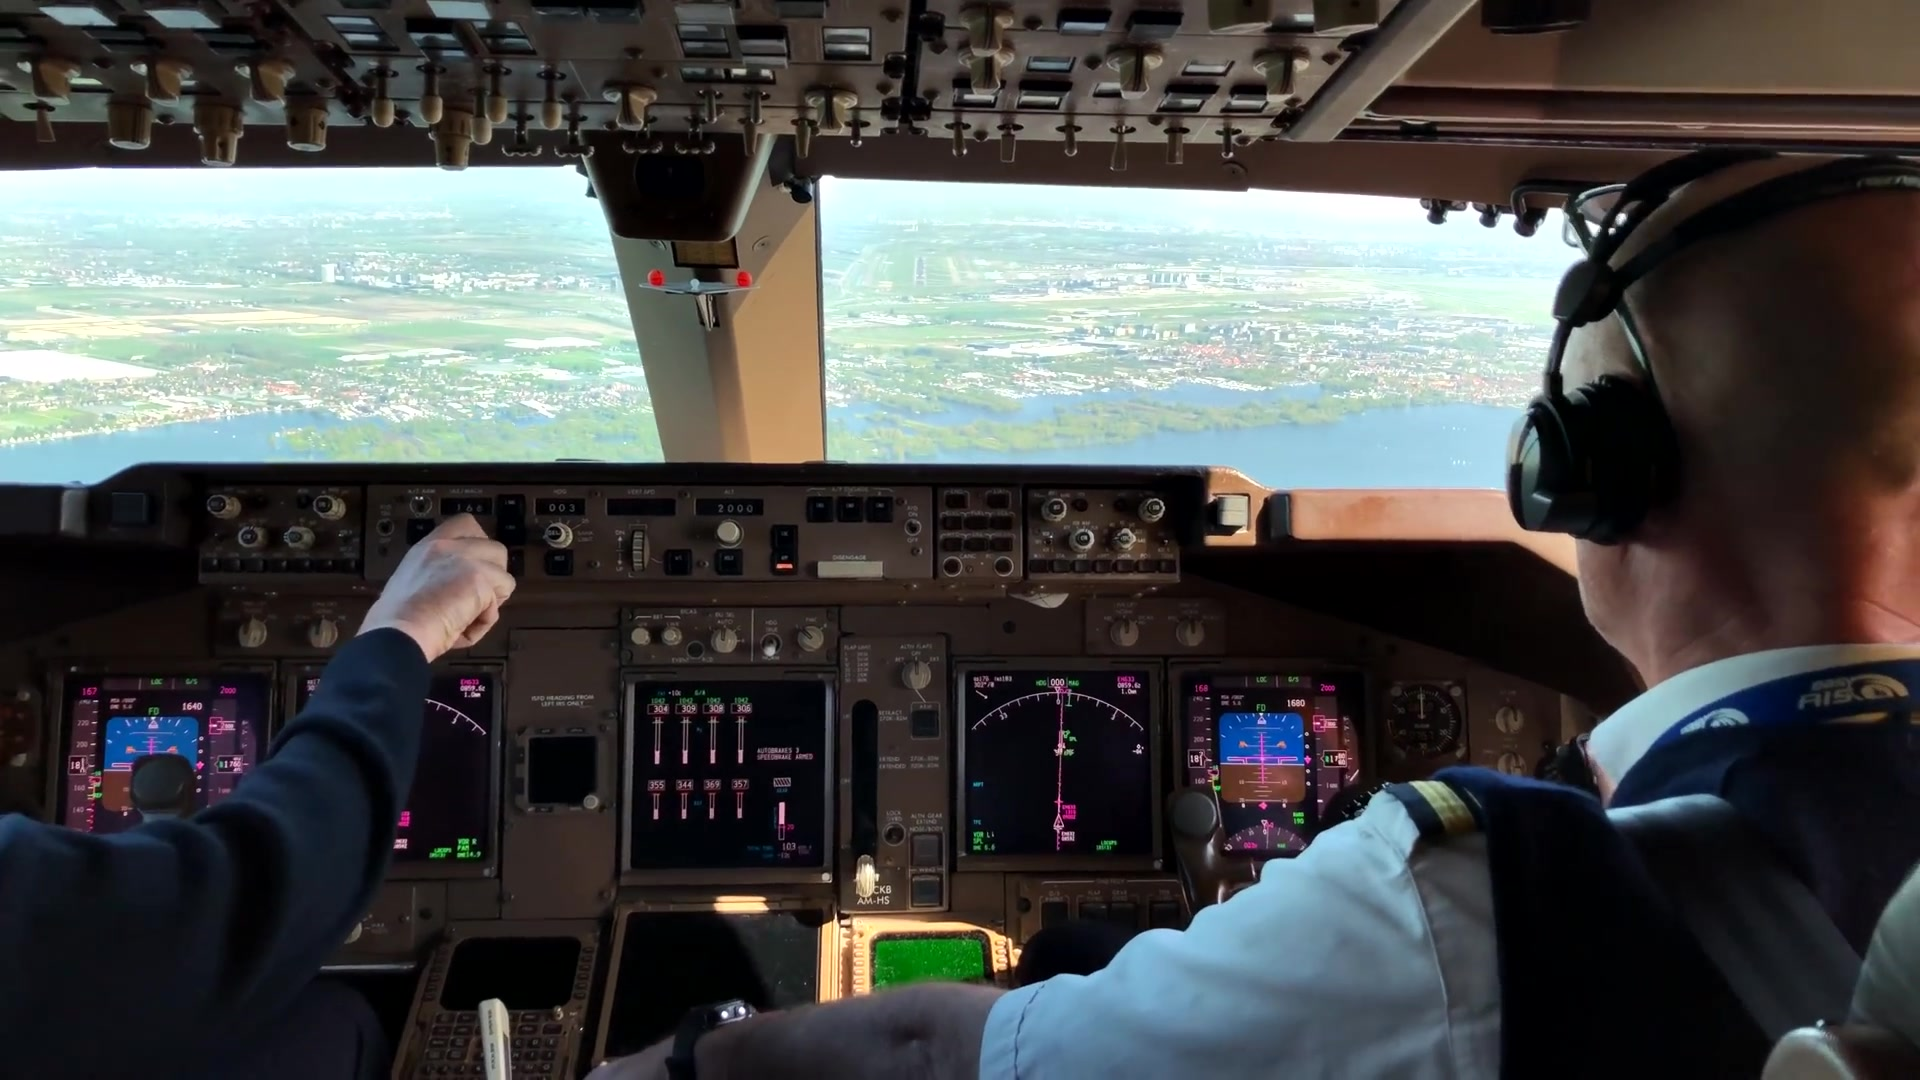runway: (913, 255, 928, 290)
